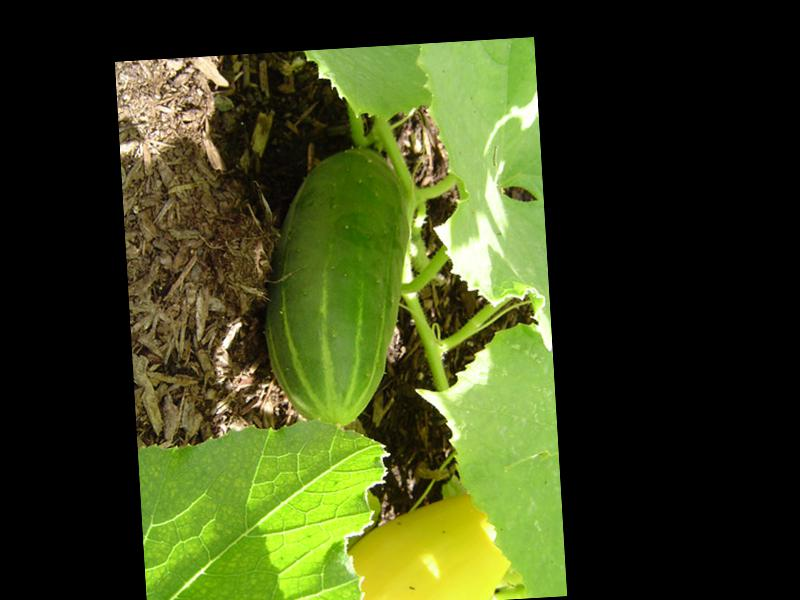Cucumber: (253, 144, 421, 431)
